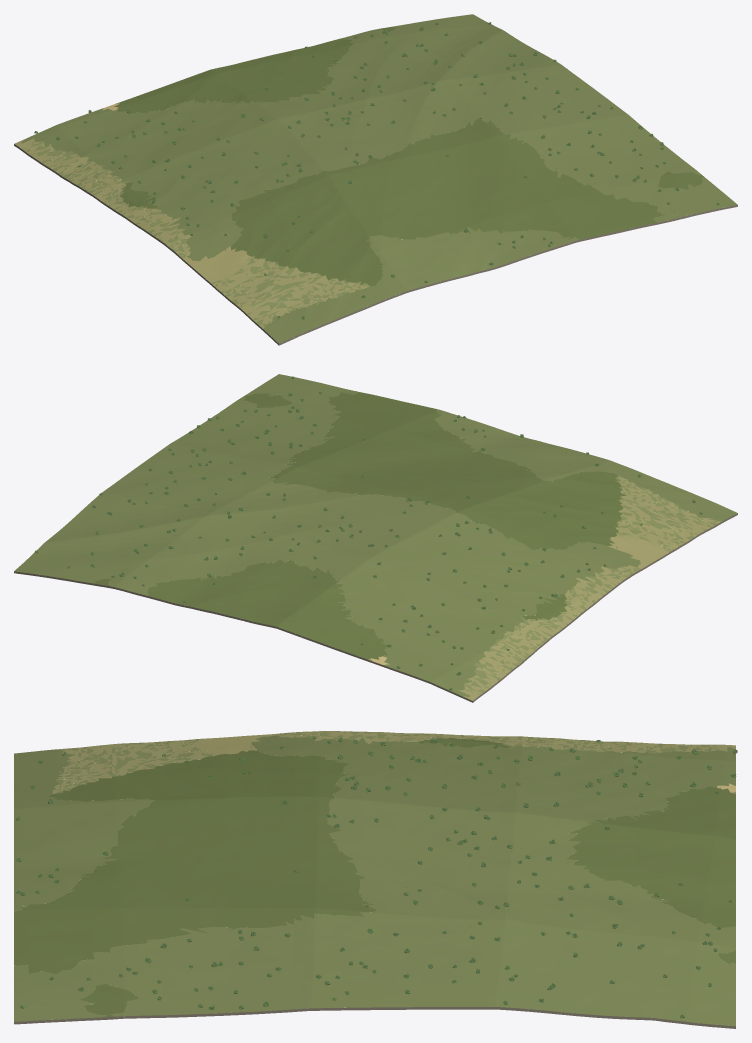
Rendered from parca_+1_-6-yakin.glb.
The picture shows the model from 3 angles, top to bottom: view 1: azimuth 30°, elevation 25°; view 2: azimuth 150°, elevation 25°; view 3: azimuth 270°, elevation 25°; orthographic projection. The views are drawn at different scales.
Visible parts, largest first — view 1: parca_+1_-6_arazi, parca_+1_-6_bitkiler; view 2: parca_+1_-6_arazi, parca_+1_-6_bitkiler; view 3: parca_+1_-6_arazi, parca_+1_-6_bitkiler.
Boxes of the visible parts, x1=… form: parca_+1_-6_arazi: x1=14, y1=14, x2=737, y2=345; parca_+1_-6_bitkiler: x1=34, y1=22, x2=719, y2=319; parca_+1_-6_arazi: x1=14, y1=374, x2=737, y2=702; parca_+1_-6_bitkiler: x1=35, y1=376, x2=702, y2=690; parca_+1_-6_arazi: x1=14, y1=731, x2=735, y2=1028; parca_+1_-6_bitkiler: x1=14, y1=736, x2=737, y2=1018.
Bounding box in the file's own units: 1000 × 111 × 1003.
